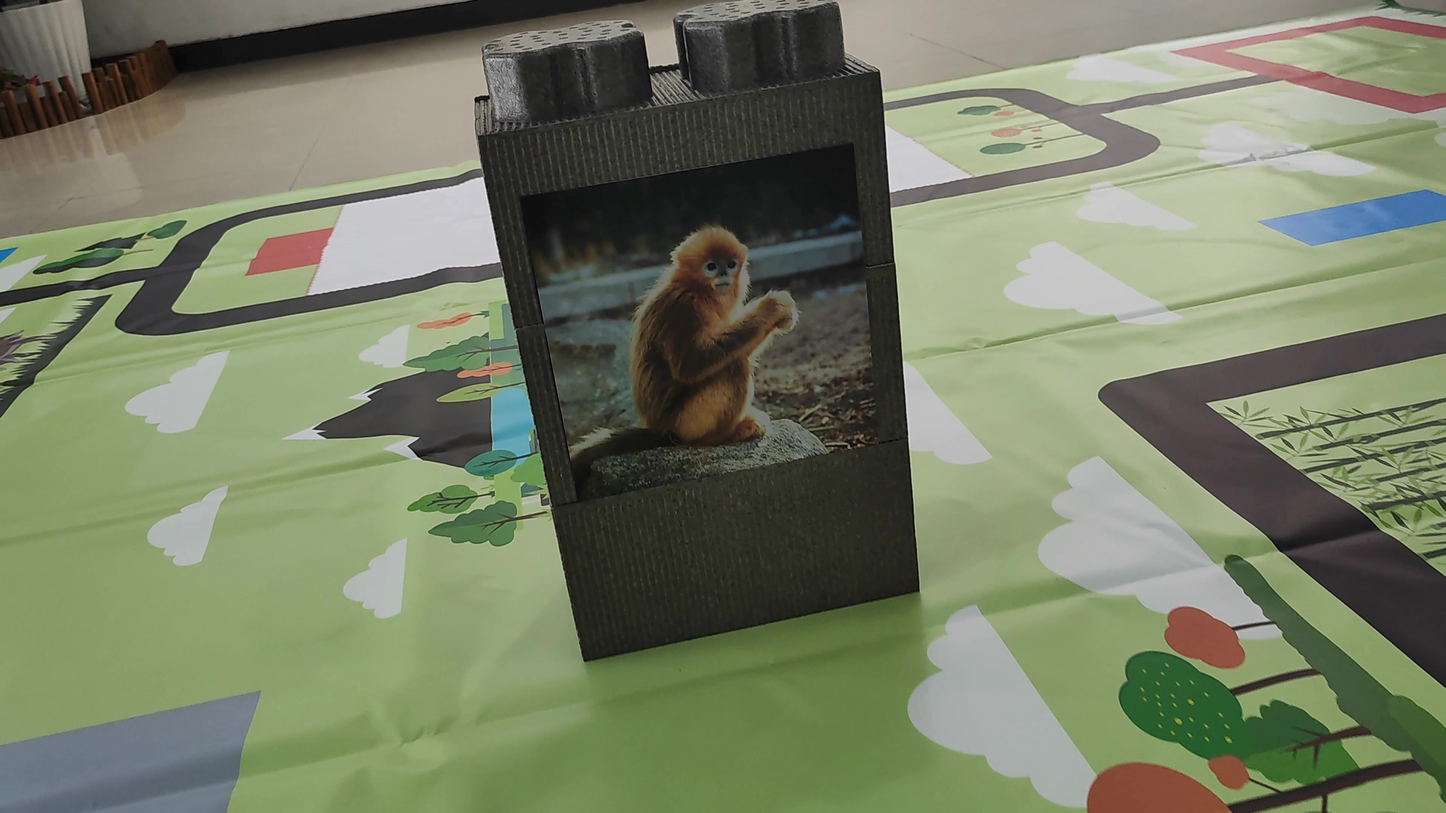monkey: (575, 214, 855, 475)
